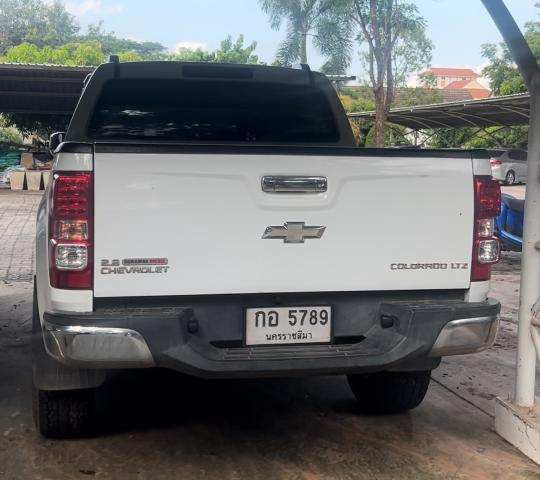pickup-truck: (20, 48, 502, 442)
